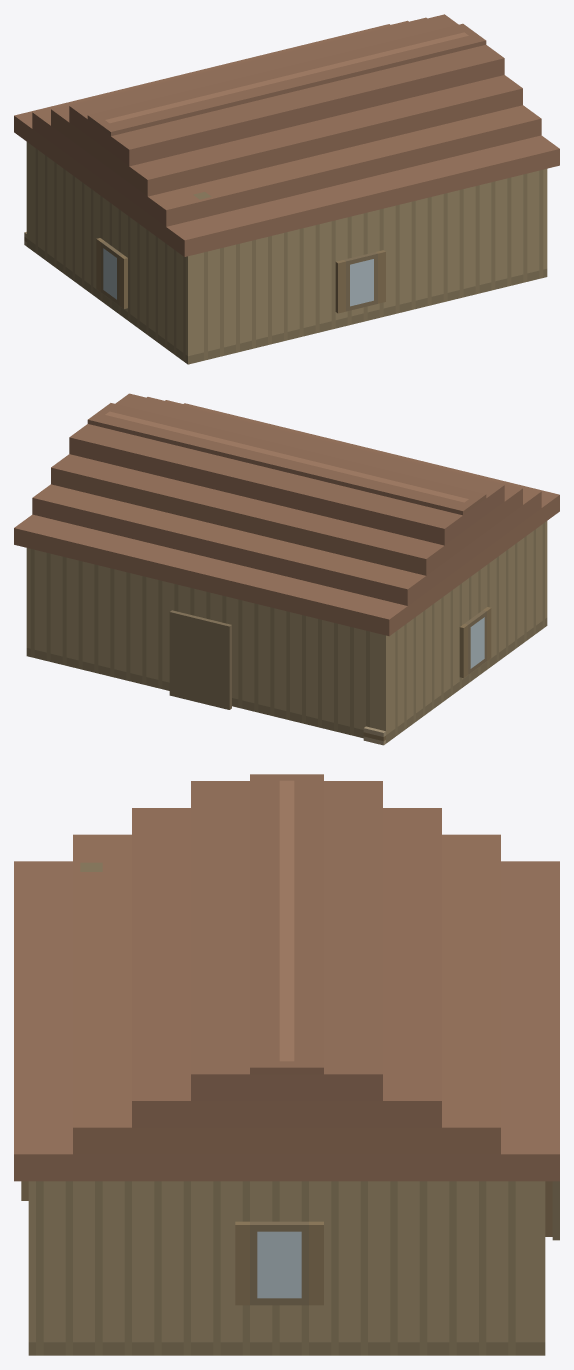
The model's file is carpinteria_03.glb.
3 renders of one model, top to bottom at view 1: azimuth 30°, elevation 25°; view 2: azimuth 150°, elevation 25°; view 3: azimuth 270°, elevation 25°, orthographic. The views are drawn at different scales.
Parts seen in each view (by area): view 1: carpinteria_03; view 2: carpinteria_03; view 3: carpinteria_03.
Part boxes in pixels (x1,y1,x2,y2): carpinteria_03: (14,14,559,364); carpinteria_03: (14,393,559,745); carpinteria_03: (14,774,559,1355).
Size of the model in its own units: 9.4 by 4.4 by 7.4.
